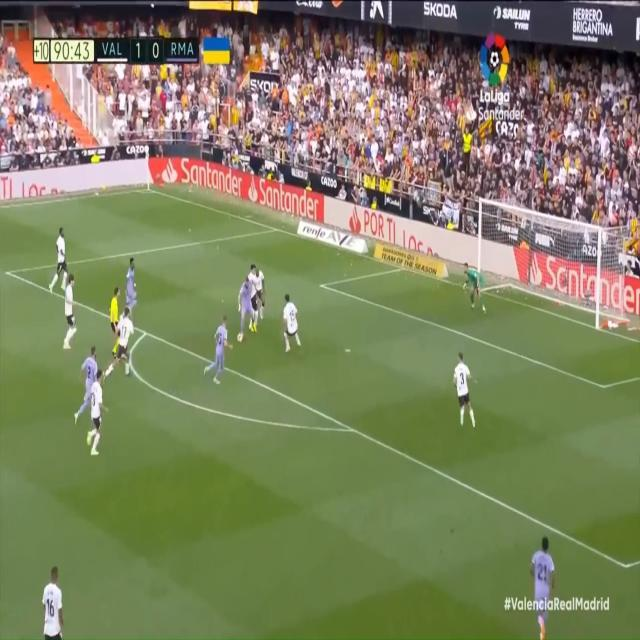ball: (235, 328, 245, 348)
goalkeeper: (459, 260, 488, 318)
player: (527, 526, 559, 640), (36, 562, 69, 640), (73, 338, 101, 429), (451, 343, 477, 436), (85, 366, 109, 460), (107, 303, 134, 385), (204, 315, 232, 393), (47, 217, 67, 302), (61, 274, 78, 358), (282, 291, 302, 355), (235, 276, 254, 338), (125, 251, 139, 334), (247, 260, 258, 327), (256, 266, 268, 323)
referee: (109, 282, 122, 367)
